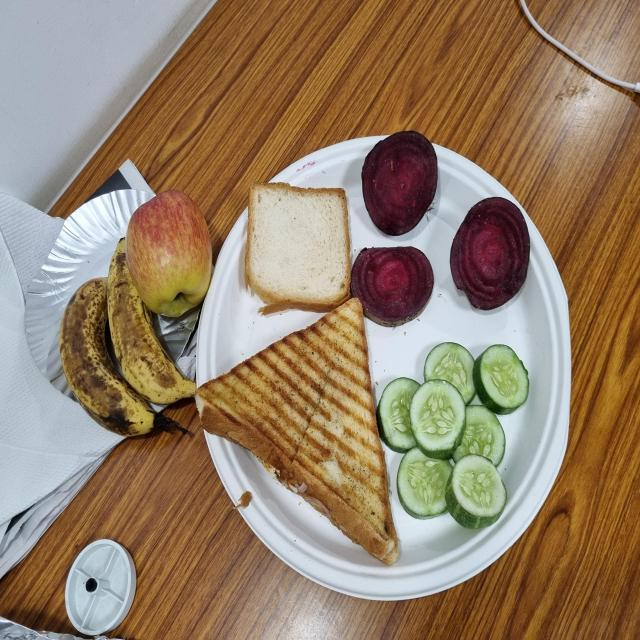apple: (125, 192, 215, 322)
banana: (61, 277, 162, 441), (102, 241, 196, 410)
cucumber: (379, 344, 530, 531)
